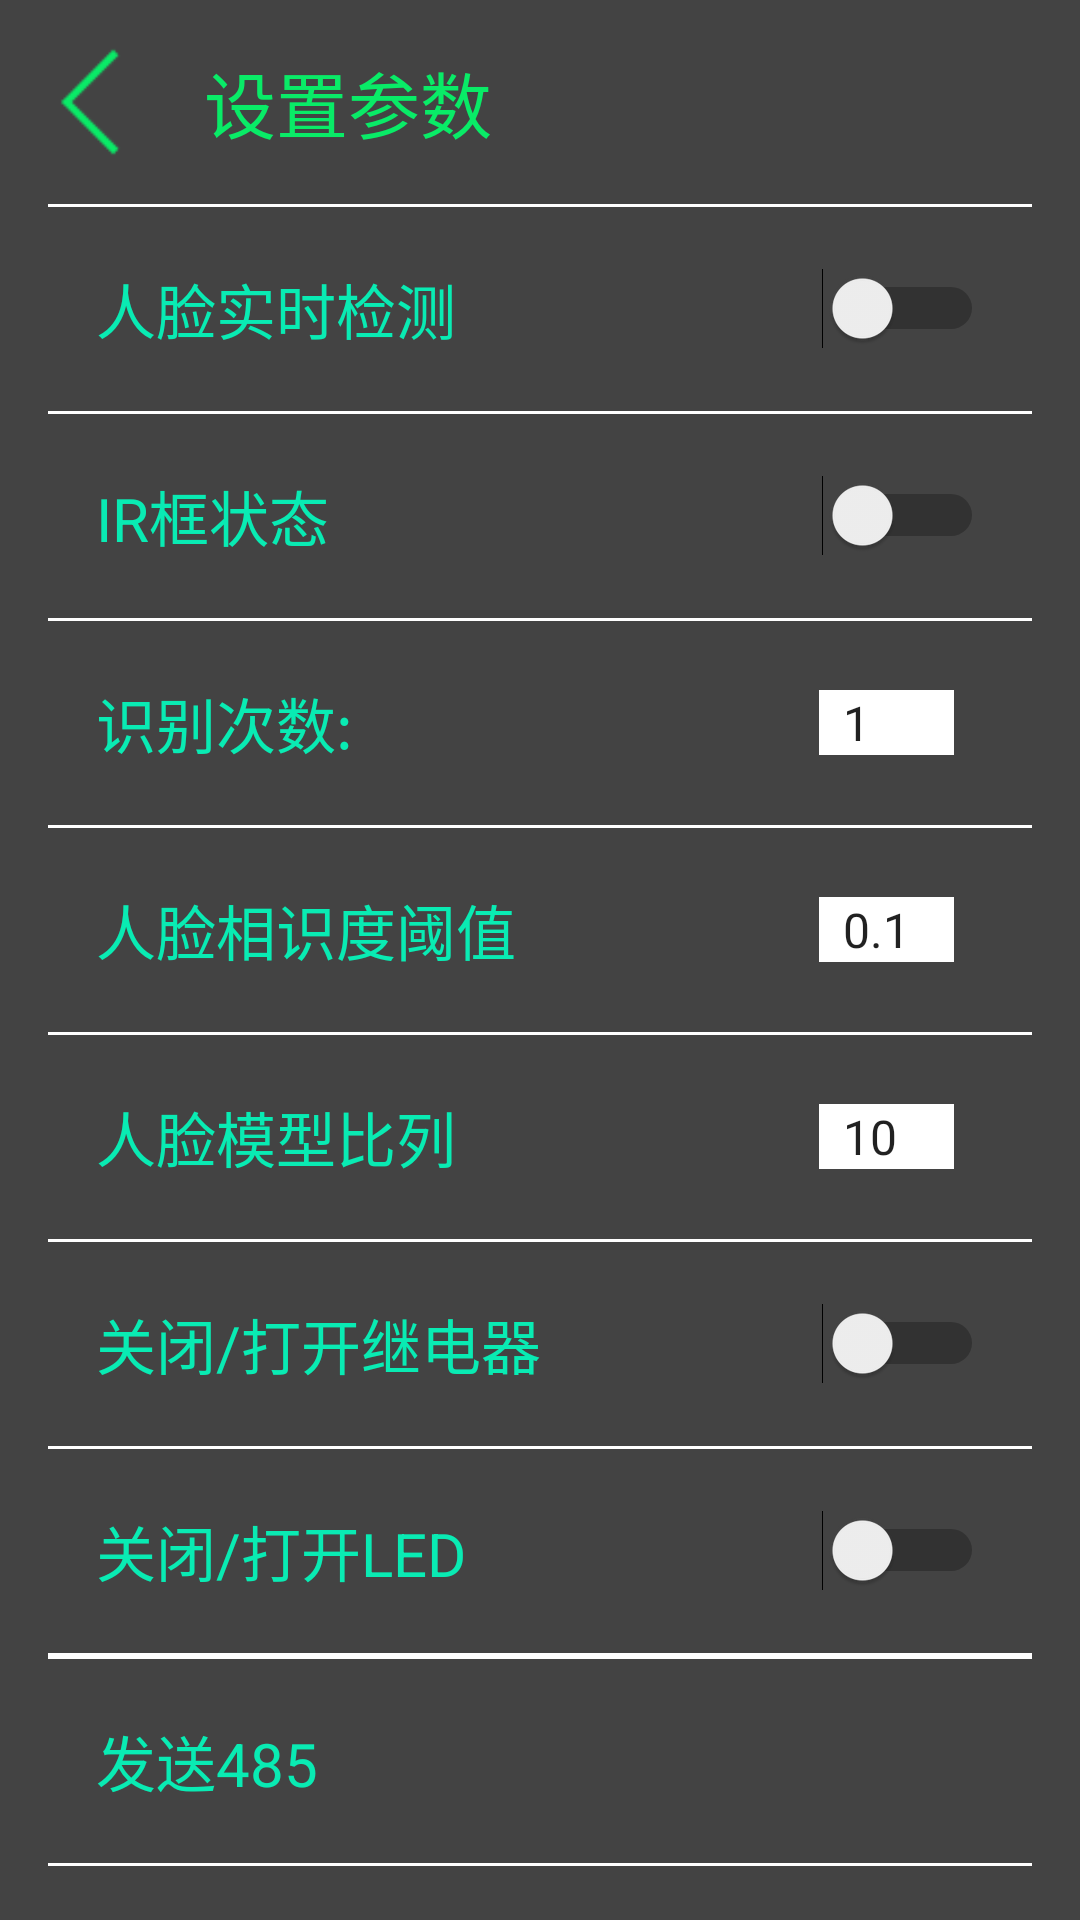

Where icons sit on this 1080*1920 app screen, as BBox(x1, y1, x2, y2):
back: BBox(61, 50, 119, 154)
